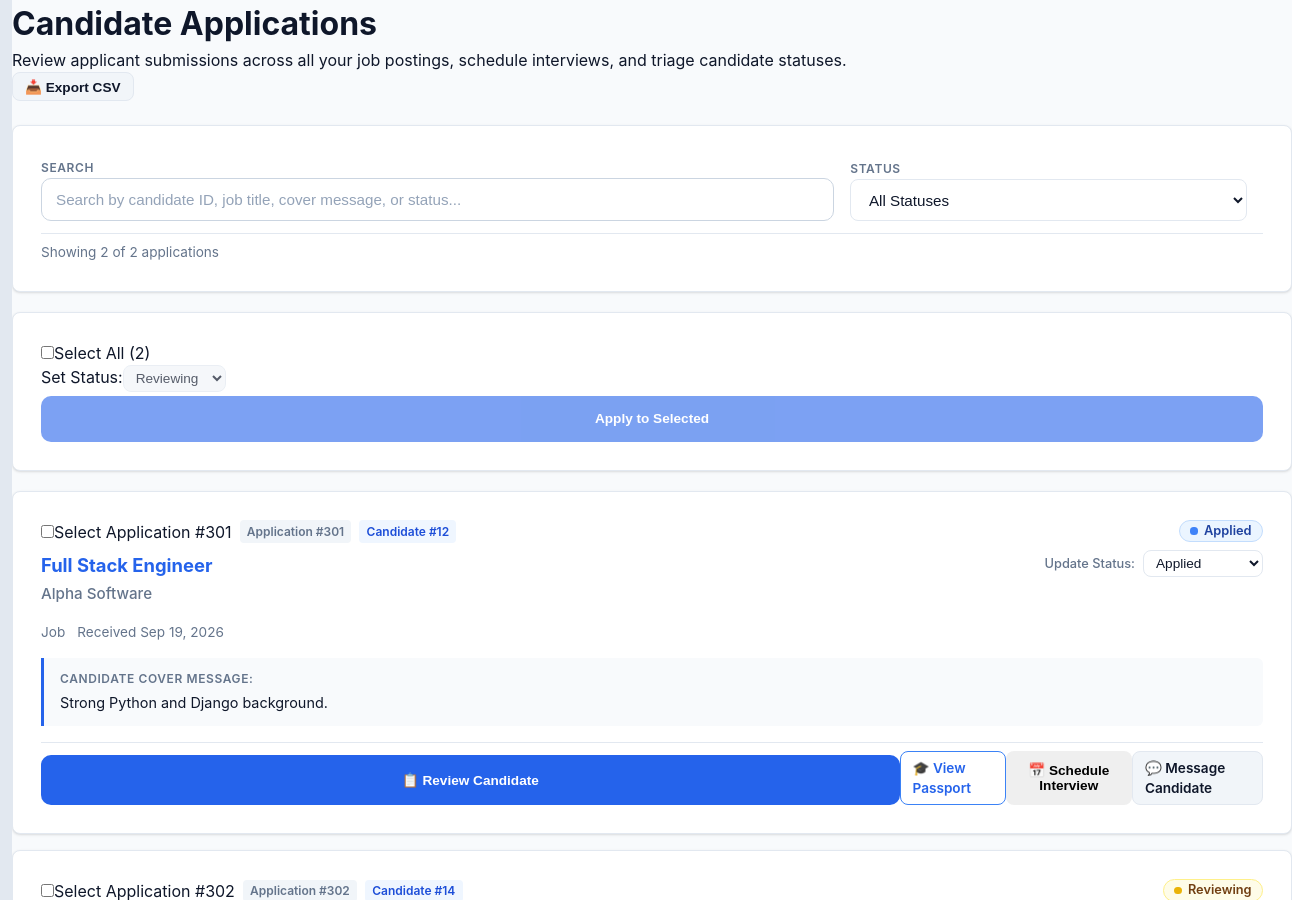
Test case: RecruiterApplicationsPage › handles multi-select and select all toggling
Expected: the text "Application #301" is shown, [240,520,351,543]
Note: Select All
Click the checkbox with test id "select-all-checkbox": (48, 352) [41,346,54,359]
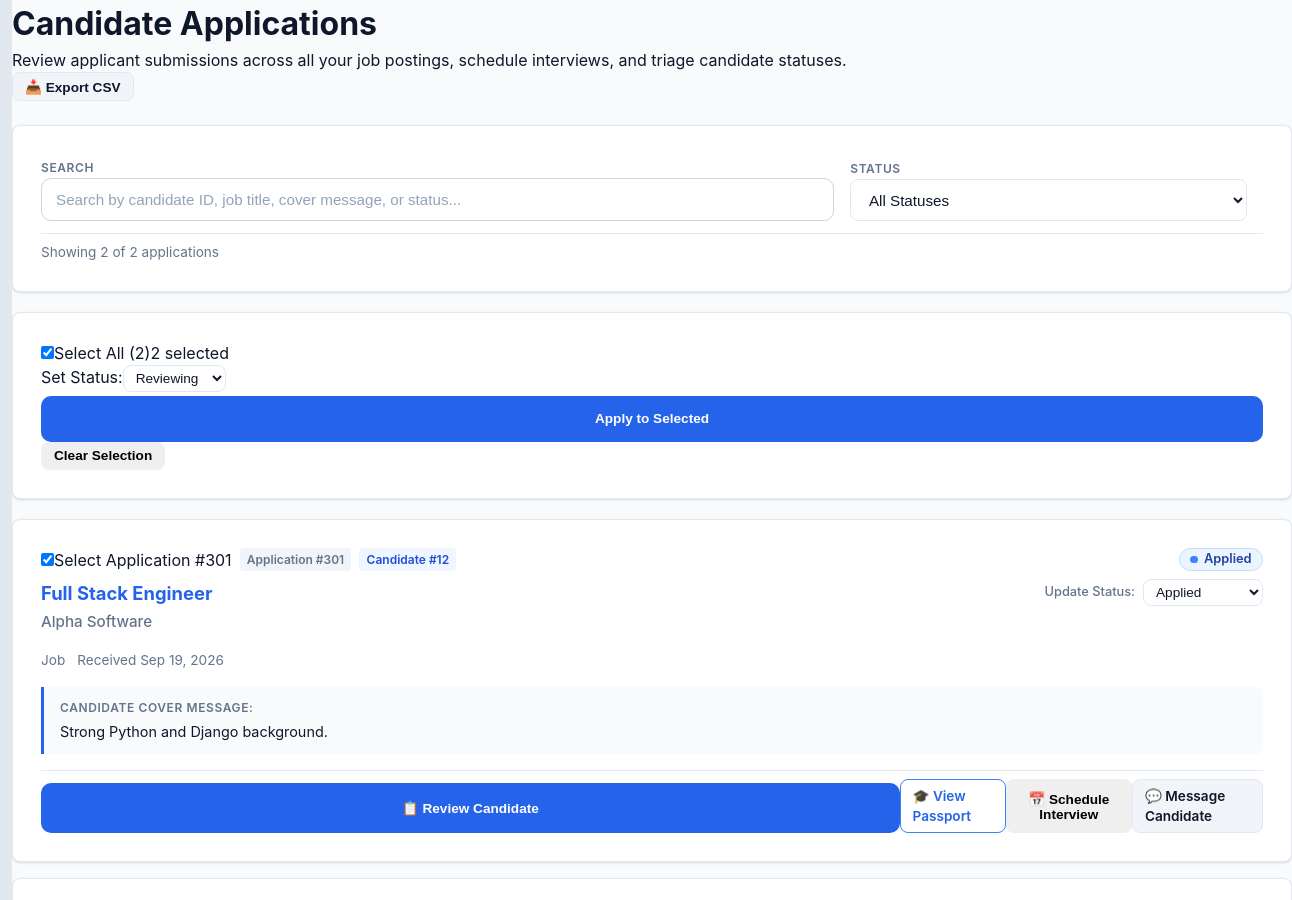
Expected: the text with test id "selected-count-badge" reads "2 selected", [150,343,229,363]
Note: Deselect single
Click the checkbox with test id "select-app-checkbox-301": (48, 559) [41,553,54,566]
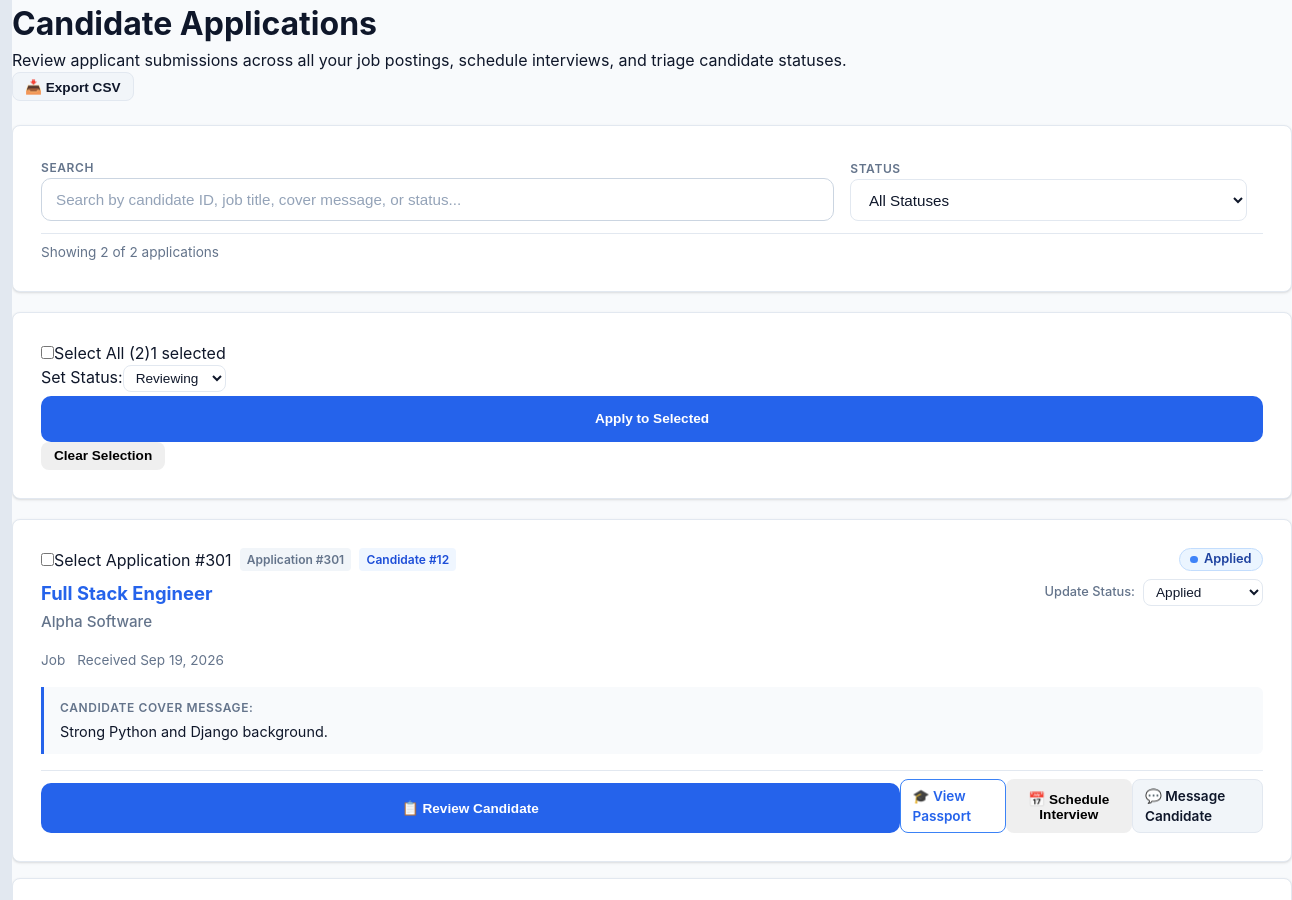
Expected: the text with test id "selected-count-badge" reads "1 selected", [150,343,226,363]
